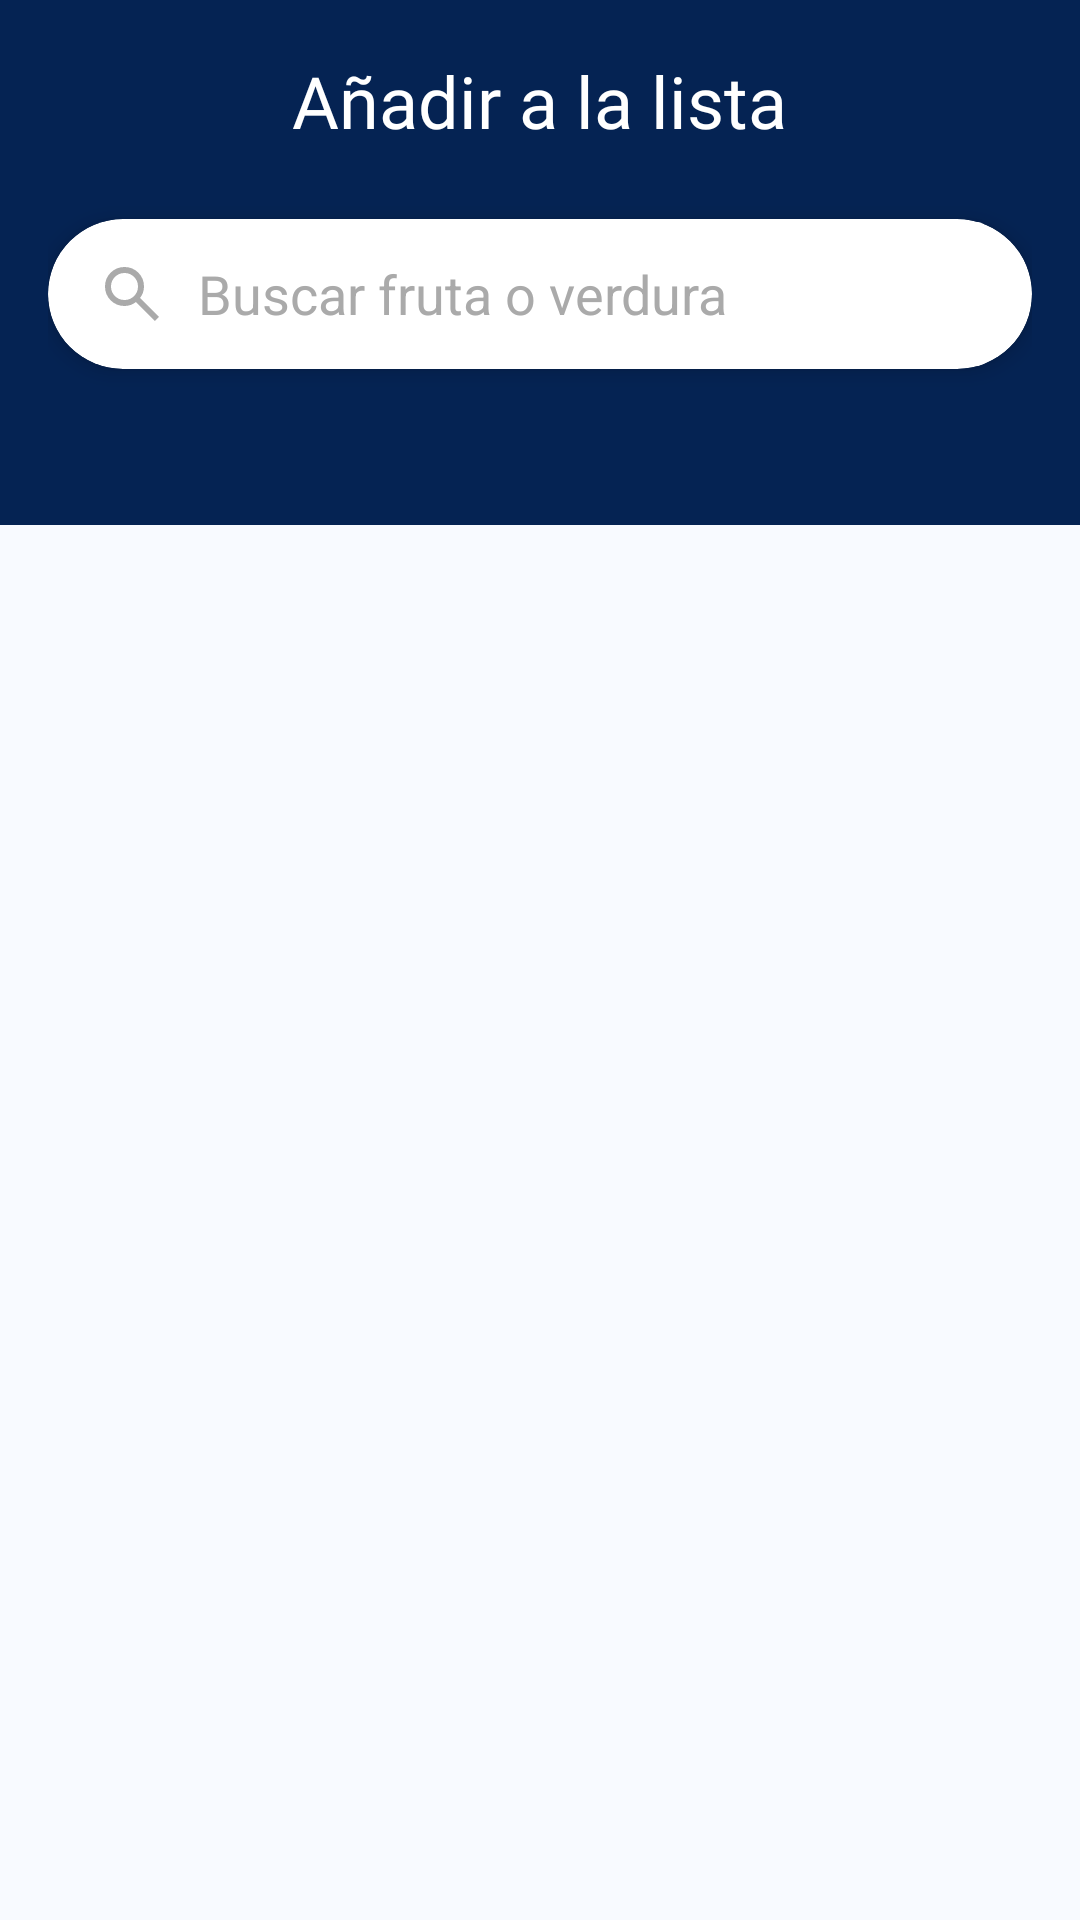

Icons on this 1080*1920 Android screen, each with its box as (x1, y1, x2, y2):
search: (105, 267, 159, 321)
